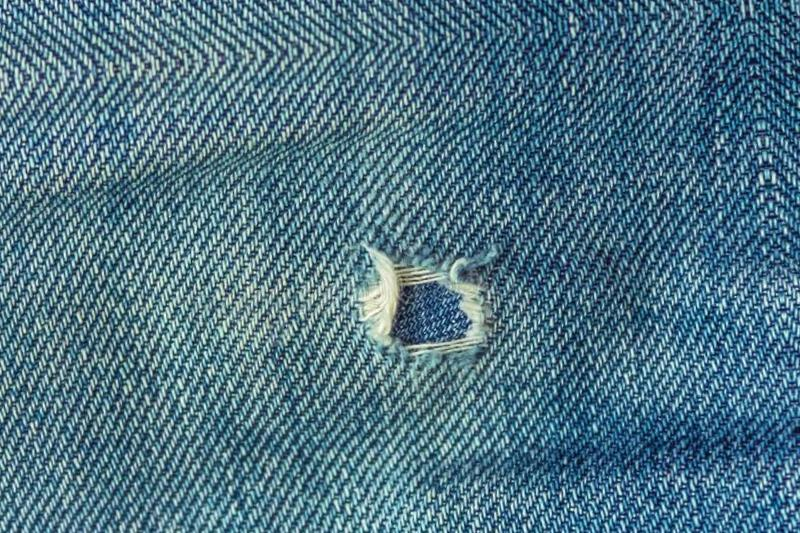hole: (362, 253, 495, 372)
